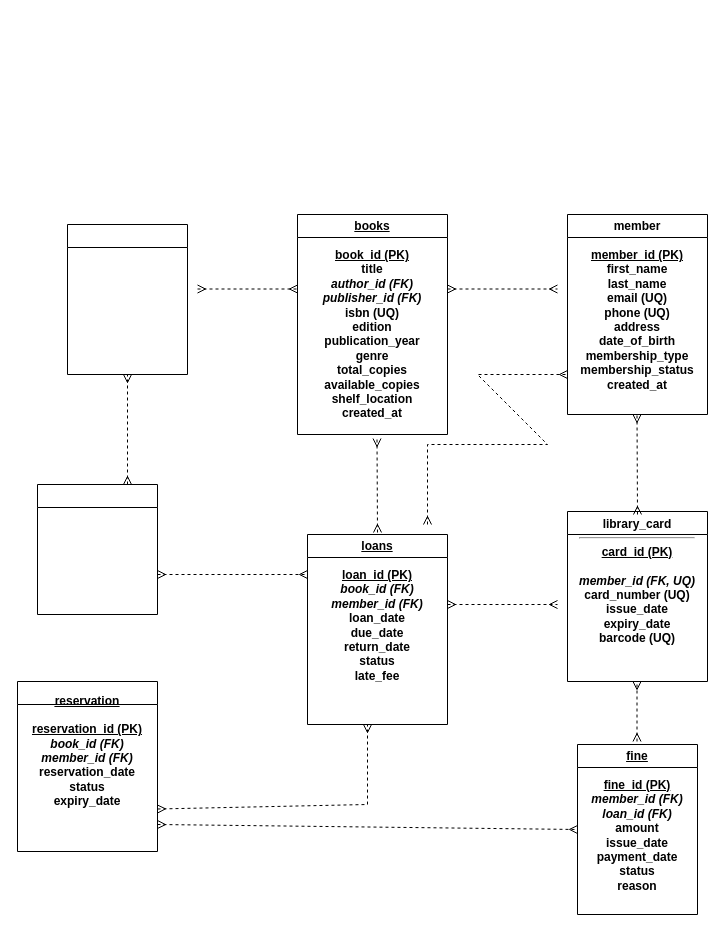
This 725x932 diagram has some shape labels left out. Each missing label, with the box of its shape:
author author_id (PK) name bio birth_date nationality created_at: (66, 224, 188, 374)
publisher publisher_id (PK) name (UQ) address contact_email phone: (36, 484, 158, 614)
